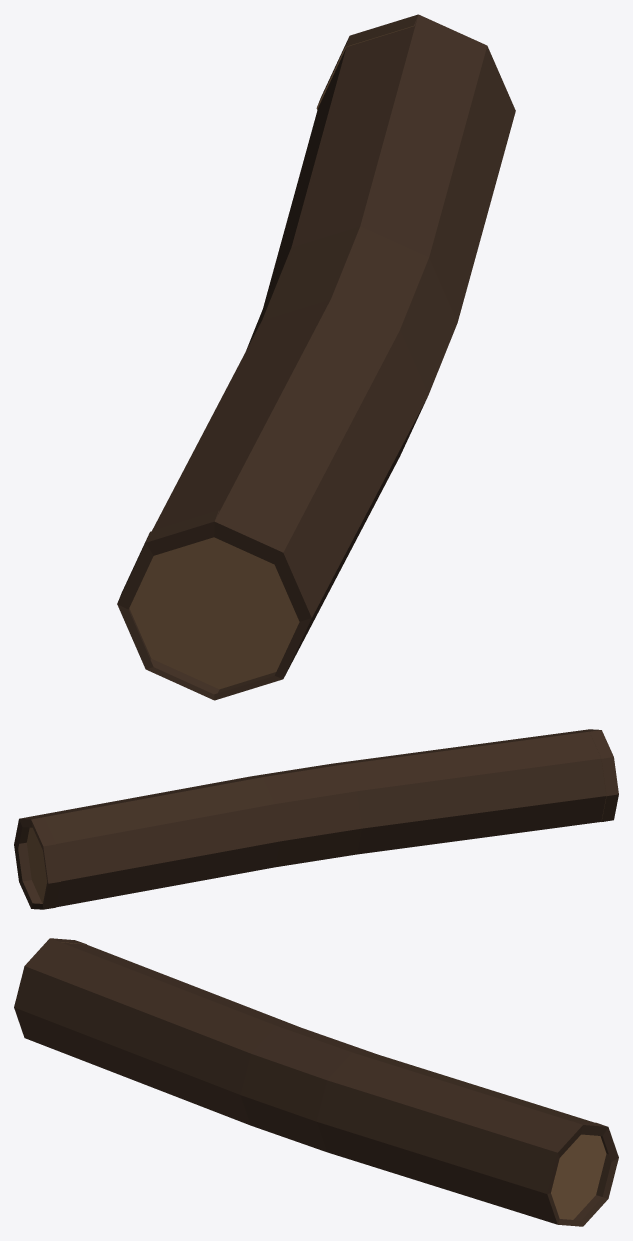
Rendered from Stump.fbx.
3 views of the same model, one above another, from view 1: azimuth 30°, elevation 25°; view 2: azimuth 150°, elevation 25°; view 3: azimuth 270°, elevation 25° (orthographic). The views are drawn at different scales.
Visible parts, largest first — view 1: Stump 3; view 2: Stump 3; view 3: Stump 3.
Part boxes in pixels (x1=…): Stump 3: x1=117, y1=14, x2=515, y2=700; Stump 3: x1=14, y1=729, x2=618, y2=909; Stump 3: x1=14, y1=938, x2=618, y2=1226.
Size of the model in its own units: 34.79 by 7.4 by 39.83.
